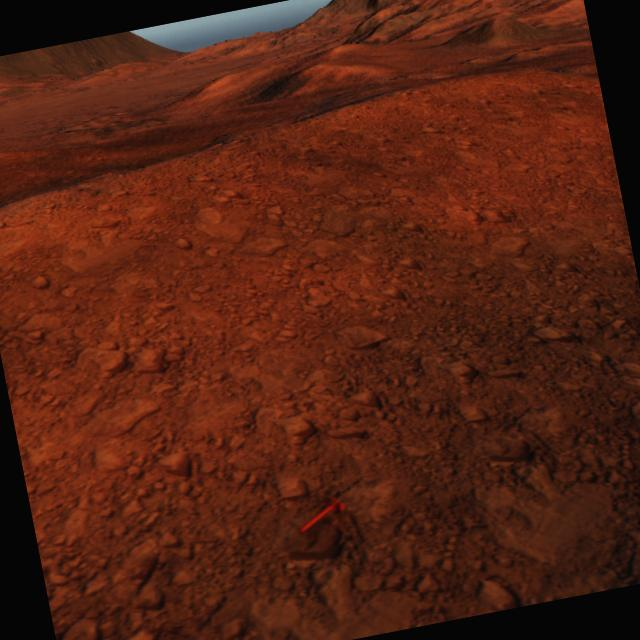newhammer: (292, 493, 348, 535)
